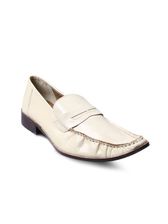shoes: (17, 73, 162, 169)
